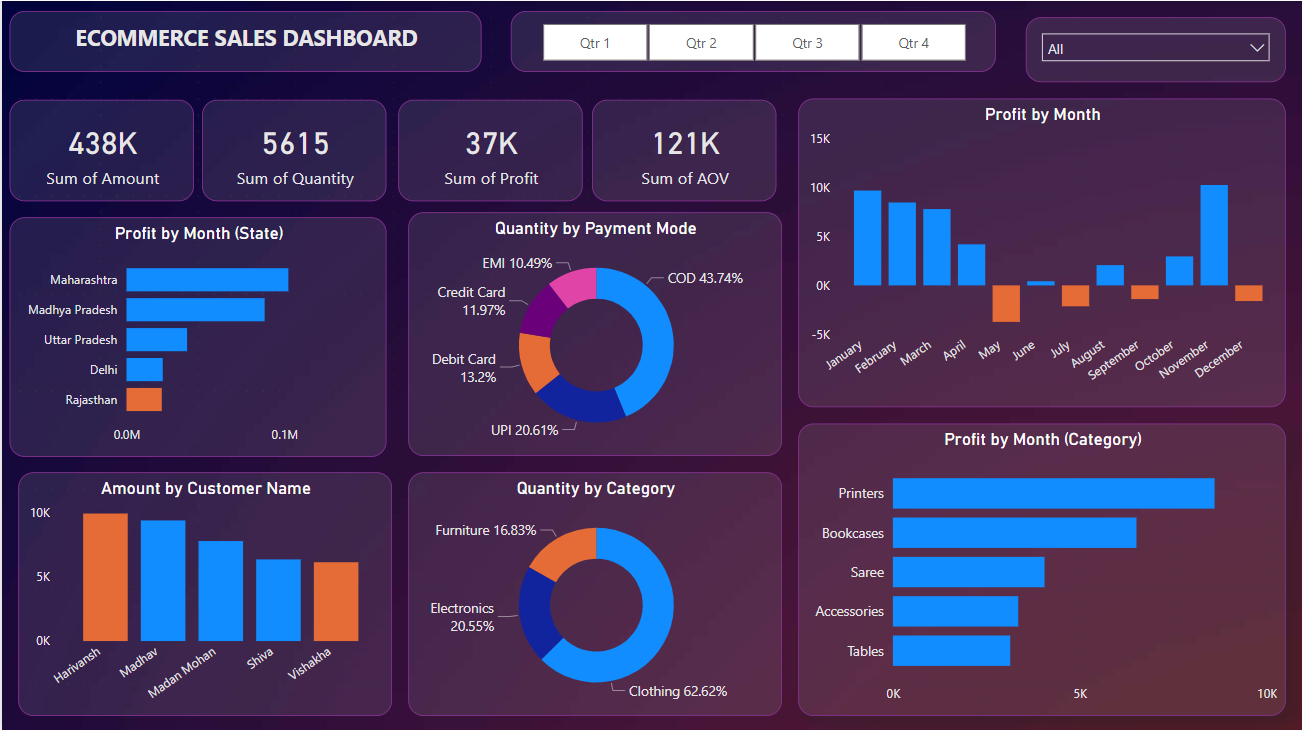

The dashboard page shown, as its layout file describes it:
{"tool":"powerbi","page":{"name":"Dashboard","canvas":[1280,720],"ordinal":0},"visuals":[{"type":"textbox","box":[12.5,28.8,371.2,51.2],"z":0},{"type":"columnChart","title":"Profit by Month","fields":{"Category":["Orders.Order Date.Variation.Date Hierarchy.Month"],"Y":["Details.Profit"]},"box":[786.2,96.2,480,303.8],"z":1000},{"type":"ribbonChart","title":"Profit by Month (Category)","fields":{"Category":["Details.Sub-Category"],"Y":["Details.Profit"]},"box":[786.2,416.2,480,287.5],"z":2000},{"type":"donutChart","title":"Quantity by Category","fields":{"Category":["Details.Category"],"Y":["Details.Quantity"]},"box":[11.2,463.8,367.5,240],"z":3000},{"type":"donutChart","title":"Quantity by Payment Mode","fields":{"Y":["Details.Quantity"],"Category":["Details.PaymentMode"]},"box":[400,212.5,367,235],"z":4000},{"type":"card","fields":{"Values":["Details.Amount"]},"box":[13.5,93.3,181.2,100],"z":5000},{"type":"card","fields":{"Values":["Details.Profit"]},"box":[396,94.5,181.2,100],"z":6000},{"type":"card","fields":{"Values":["Details.Quantity"]},"box":[203.5,94.5,181.2,100],"z":7000},{"type":"card","fields":{"Values":["Details.AOV"]},"box":[587.2,94.5,181.2,100],"z":8000},{"type":"barChart","title":"Profit by Month (State)","fields":{"Y":["Details.Amount"],"Category":["Orders.State"]},"box":[13.8,211.2,365,236.2],"z":9000},{"type":"waterfallChart","title":"Amount by Customer Name","fields":{"Category":["Orders.CustomerName"],"Y":["Details.Amount"]},"box":[400,463.8,367.5,240],"z":10000},{"type":"slicer","fields":{"Values":["Orders.Order Date.Variation.Date Hierarchy.Quarter"]},"box":[388.8,28.8,547.5,51.2],"z":11000},{"type":"slicer","fields":{"Values":["Orders.State"]},"box":[937.5,25,335,60],"z":12000}]}

Visuals, with their boxes in screenshot pixels (x1, y1, x2, y2), scaled from the page's 1280x720 canvas onto the 1302x730 screenshot:
textbox: [13,29,390,81]
"Profit by Month" columnChart: [800,98,1288,406]
"Profit by Month (Category)" ribbonChart: [800,422,1288,713]
"Quantity by Category" donutChart: [11,470,385,714]
"Quantity by Payment Mode" donutChart: [407,215,780,454]
card - Details.Amount: [14,95,198,196]
card - Details.Profit: [403,96,587,197]
card - Details.Quantity: [207,96,391,197]
card - Details.AOV: [597,96,782,197]
"Profit by Month (State)" barChart: [14,214,385,454]
"Amount by Customer Name" waterfallChart: [407,470,781,714]
slicer - Orders.Order Date.Variation.Date Hierarchy.Quarter: [395,29,952,81]
slicer - Orders.State: [954,25,1294,86]
